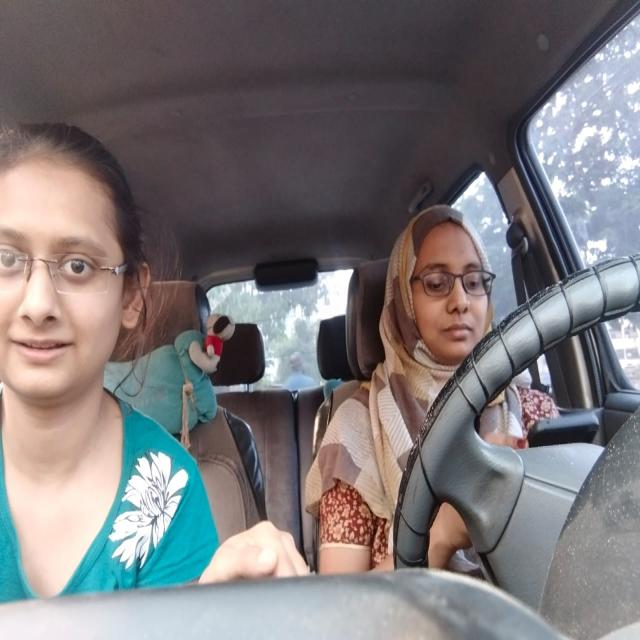mobile: (523, 419, 610, 449)
person: (5, 123, 150, 398), (380, 203, 514, 366)
